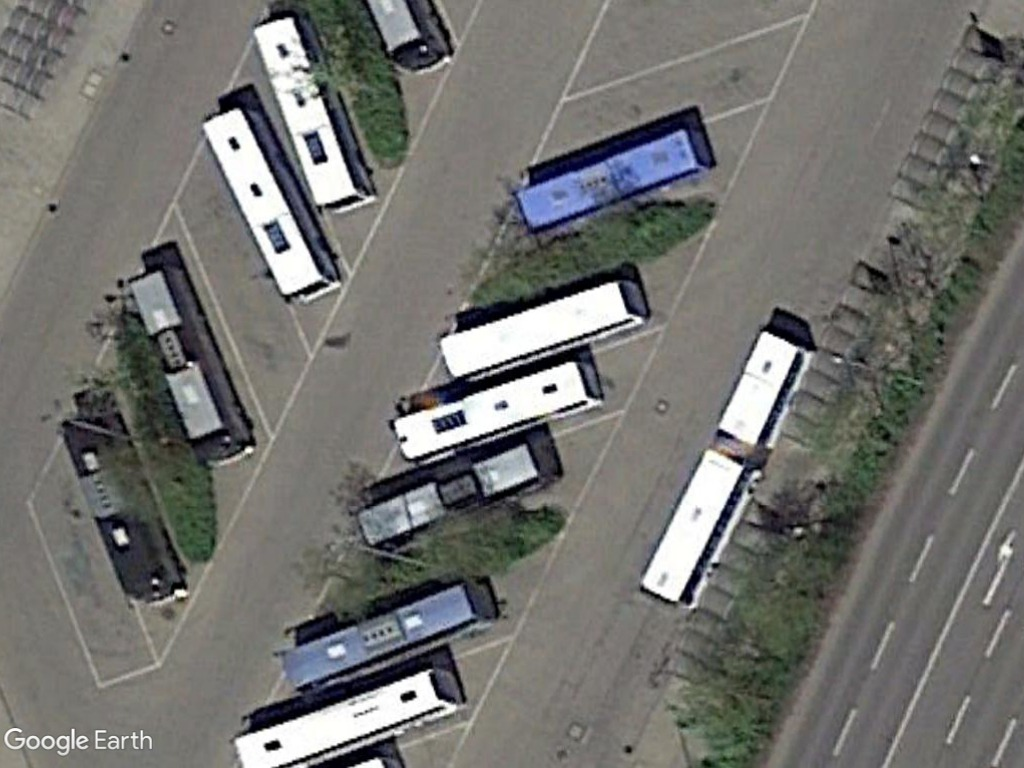bus: (635, 334, 814, 609), (200, 101, 344, 304), (122, 263, 261, 469), (54, 410, 192, 617), (248, 11, 378, 214), (281, 578, 503, 695), (433, 277, 656, 389), (389, 350, 601, 464), (513, 124, 720, 238), (232, 665, 459, 768), (355, 438, 561, 550)
